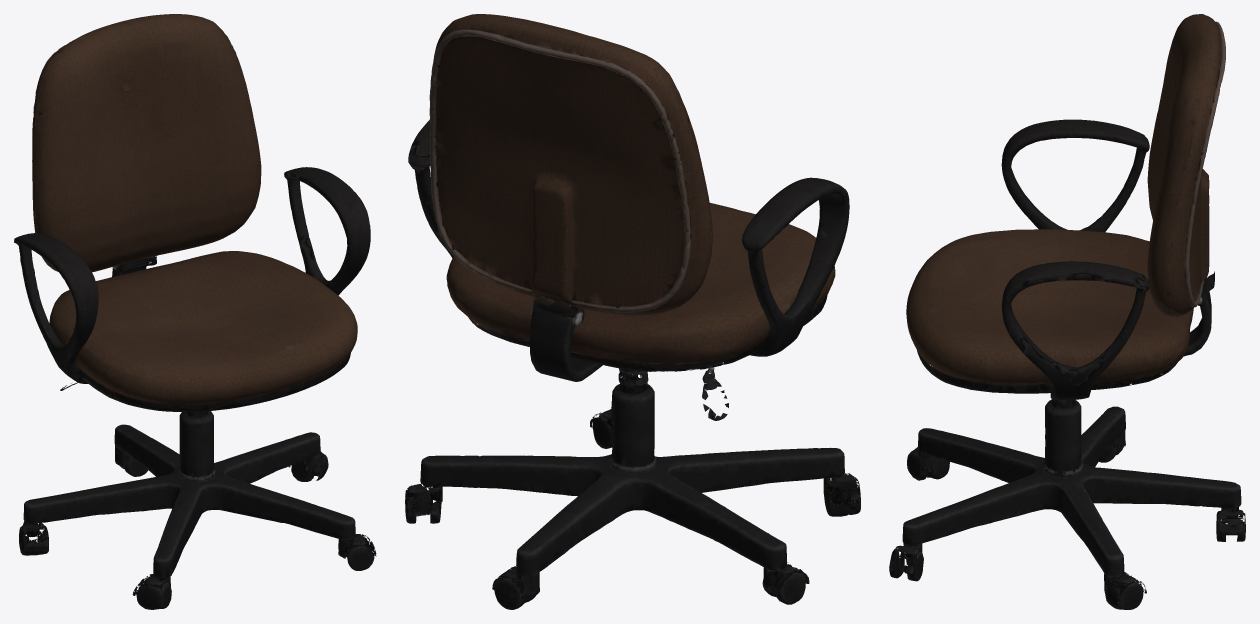
The model's file is chair.glb.
The picture shows the model from 3 angles, left to right: view 1: azimuth 30°, elevation 25°; view 2: azimuth 150°, elevation 25°; view 3: azimuth 270°, elevation 25°; orthographic projection. The views are drawn at different scales.
Parts seen in each view (by area): view 1: geometry_0; view 2: geometry_0; view 3: geometry_0.
Boxes of the visible parts, x1,y1,x2,y2 form: geometry_0: (14,14,376,609); geometry_0: (405,14,860,609); geometry_0: (889,14,1245,609).
Size of the model in its own units: 0.7125 by 1 by 0.6572.
1 material, 1 textured.
